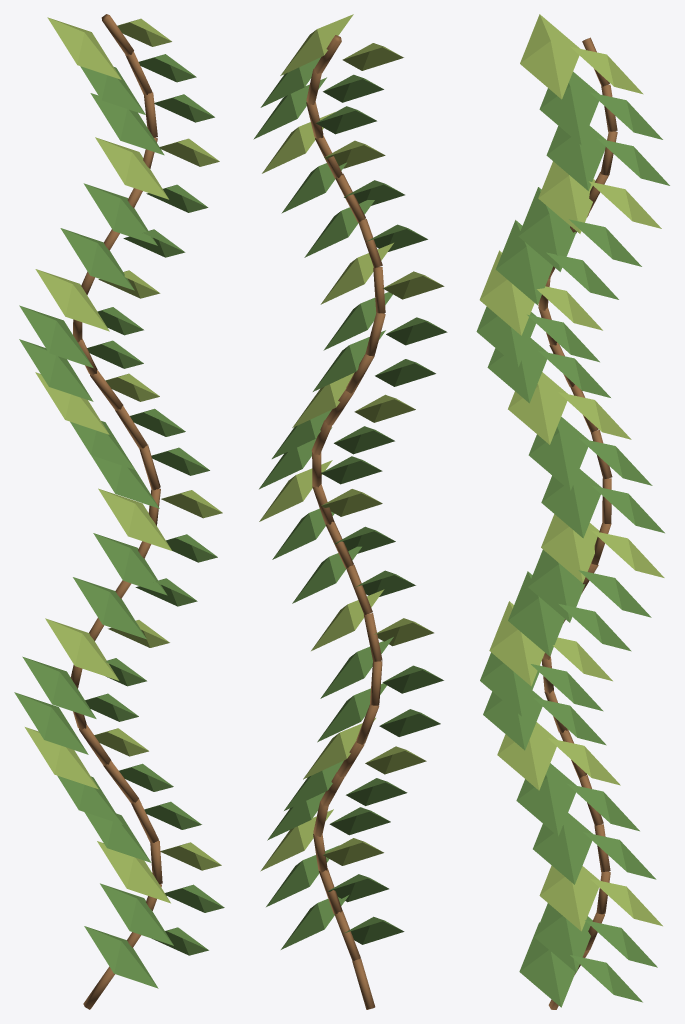
File: vine_hanging.glb
The picture shows the model from 3 angles, left to right: view 1: azimuth 30°, elevation 25°; view 2: azimuth 150°, elevation 25°; view 3: azimuth 330°, elevation 25°; orthographic projection.
Parts seen in each view (by area): view 1: vine_hanging; view 2: vine_hanging; view 3: vine_hanging.
Boxes of the visible parts, x1,y1,x2,y2 form: vine_hanging: (14,14,224,1009); vine_hanging: (253,14,447,1009); vine_hanging: (476,14,669,1009).
Size of the model in its own units: 0.6876 by 3.67 by 0.3026.
